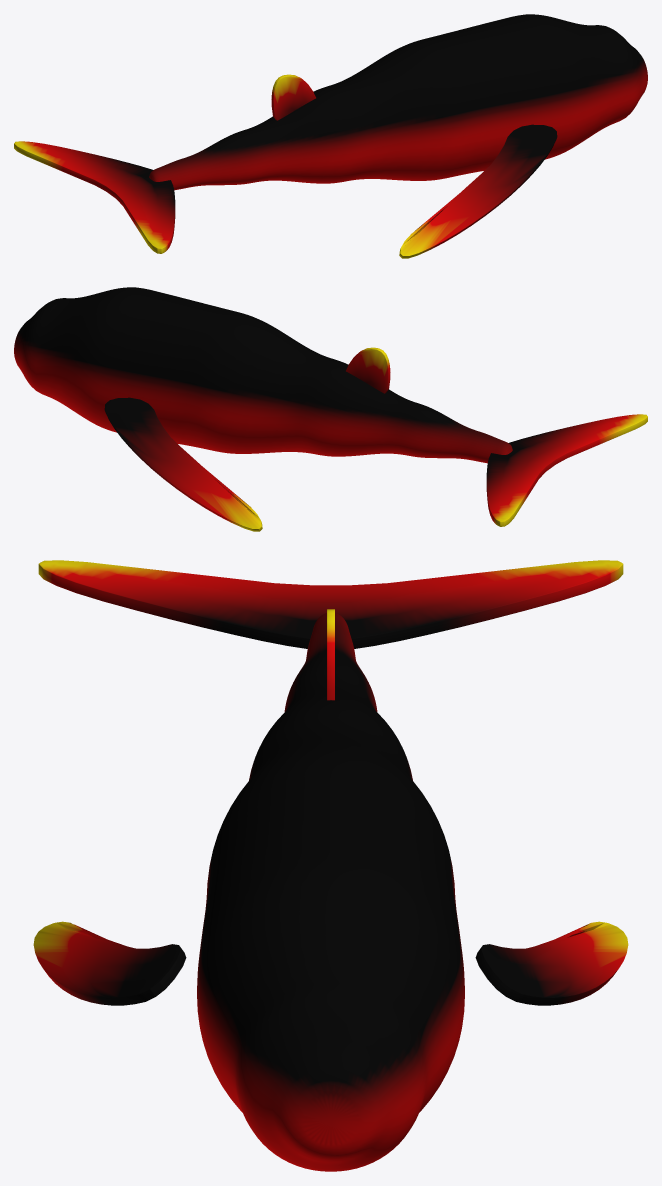
The model's file is leviathan.glb.
3 views of the same model, one above another, from view 1: azimuth 30°, elevation 25°; view 2: azimuth 150°, elevation 25°; view 3: azimuth 270°, elevation 25° (orthographic). The views are drawn at different scales.
Visible parts, largest first — view 1: Leviathan; view 2: Leviathan; view 3: Leviathan.
Boxes of the visible parts, x1,y1,x2,y2 form: Leviathan: (14, 14, 647, 258); Leviathan: (14, 287, 647, 531); Leviathan: (33, 560, 628, 1171).
Bounding box in the file's own units: 2.56 × 0.6268 × 1.19.
